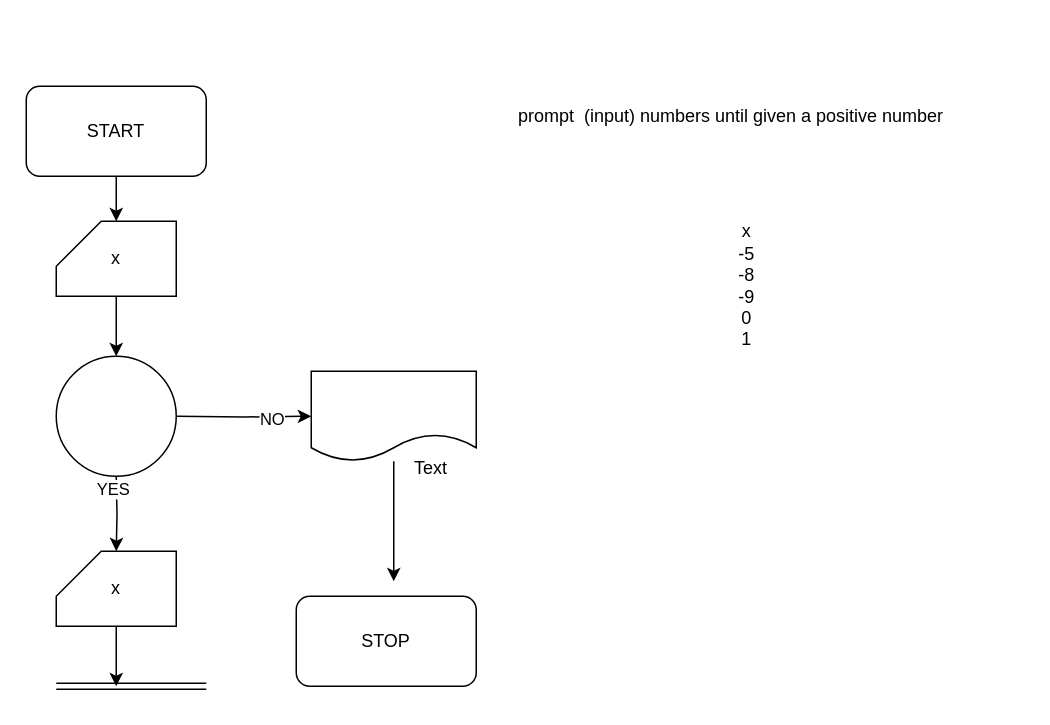
The diagram is 1050 pixels wide and 725 high, and some of its shapes have lost their labels. Here are the shapes that lost their labels. From the top down, the box of each, then its label:
(55, 355, 176, 476): x <= 0 ?
(310, 370, 476, 461): x + 'POSITIVE'
